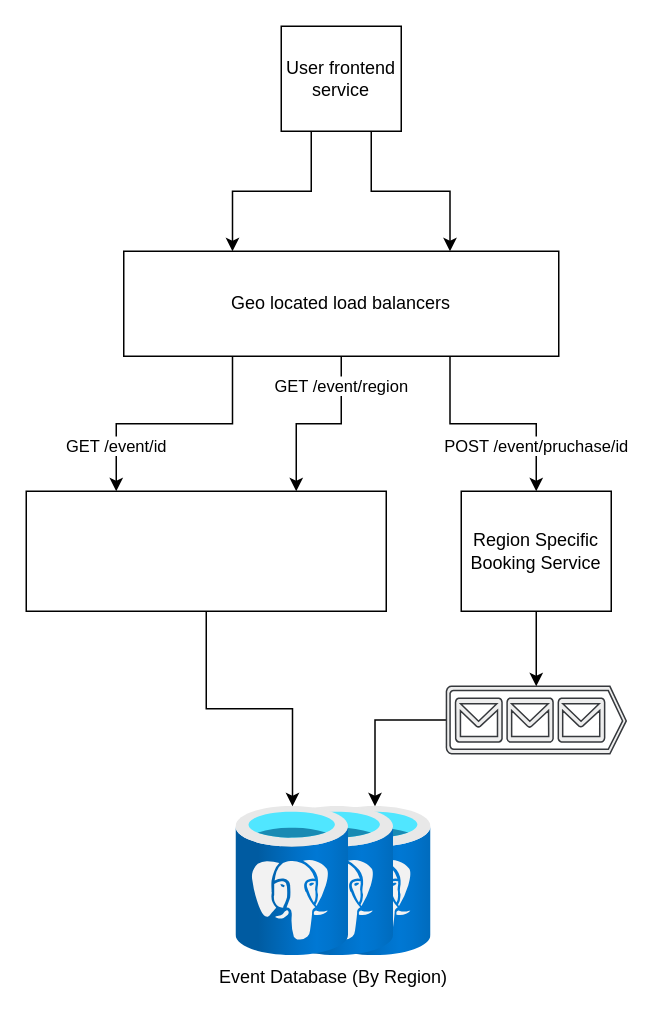
This 656x1014 diagram has some shape labels left out. Here are the shapes that lost their labels. From the top down, the centre of each, then its label:
At point 205,550: "Region Specific Viewing Service".
At point 535,719: "Ticket Purchase Queue".
